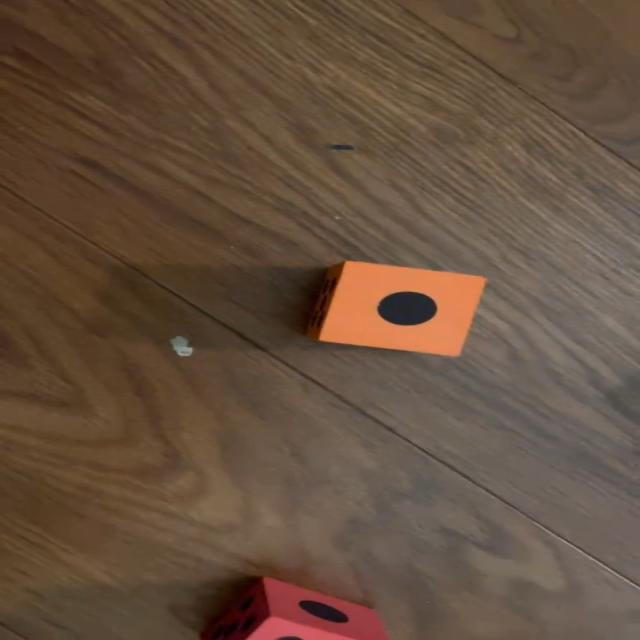red_block: (206, 577, 390, 640)
